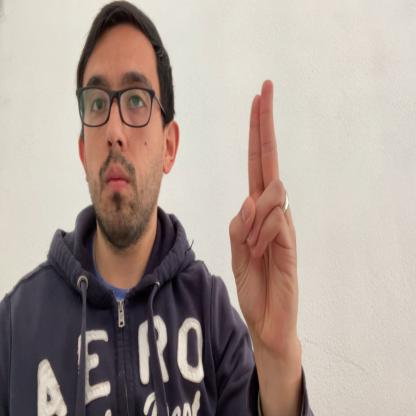U: (229, 79, 299, 357)
